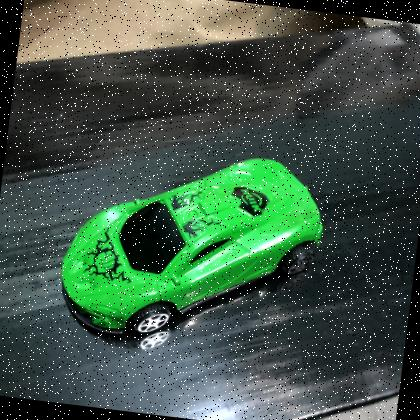Car: (60, 159, 323, 336)
